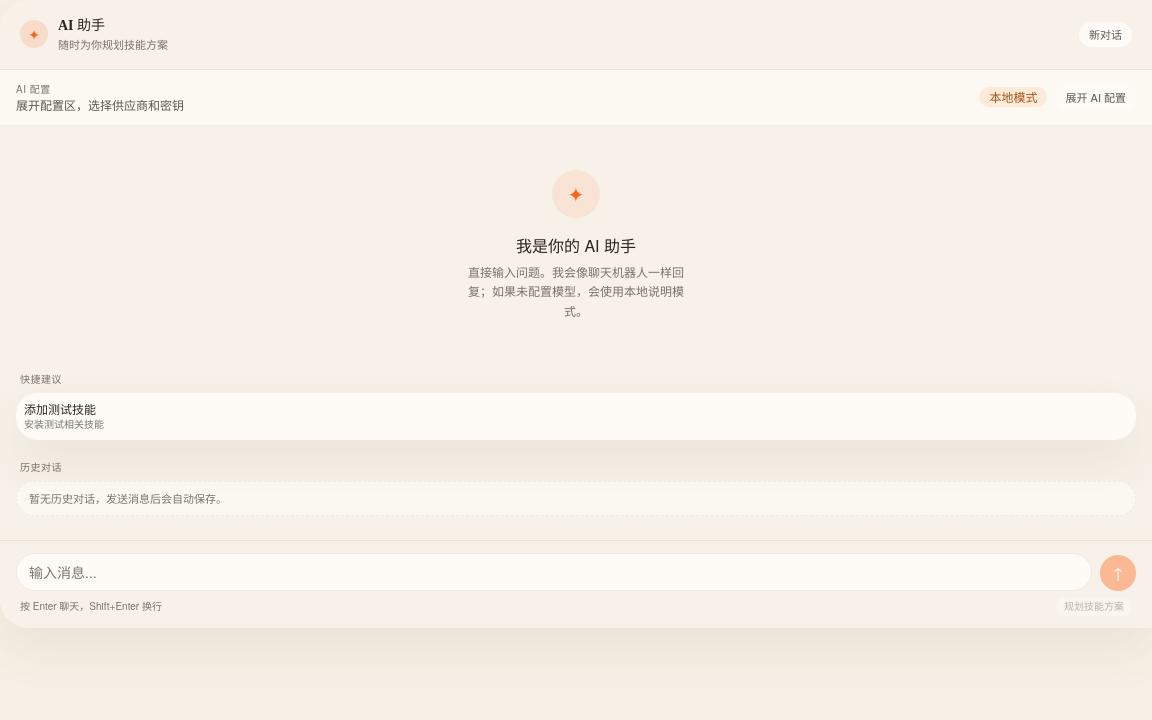
it: AssistantPanel › starts planning directly from suggestion templates
The image size is (1152, 720).
Click the text "添加测试技能".
click(60, 408)  # box [24,400,96,417]
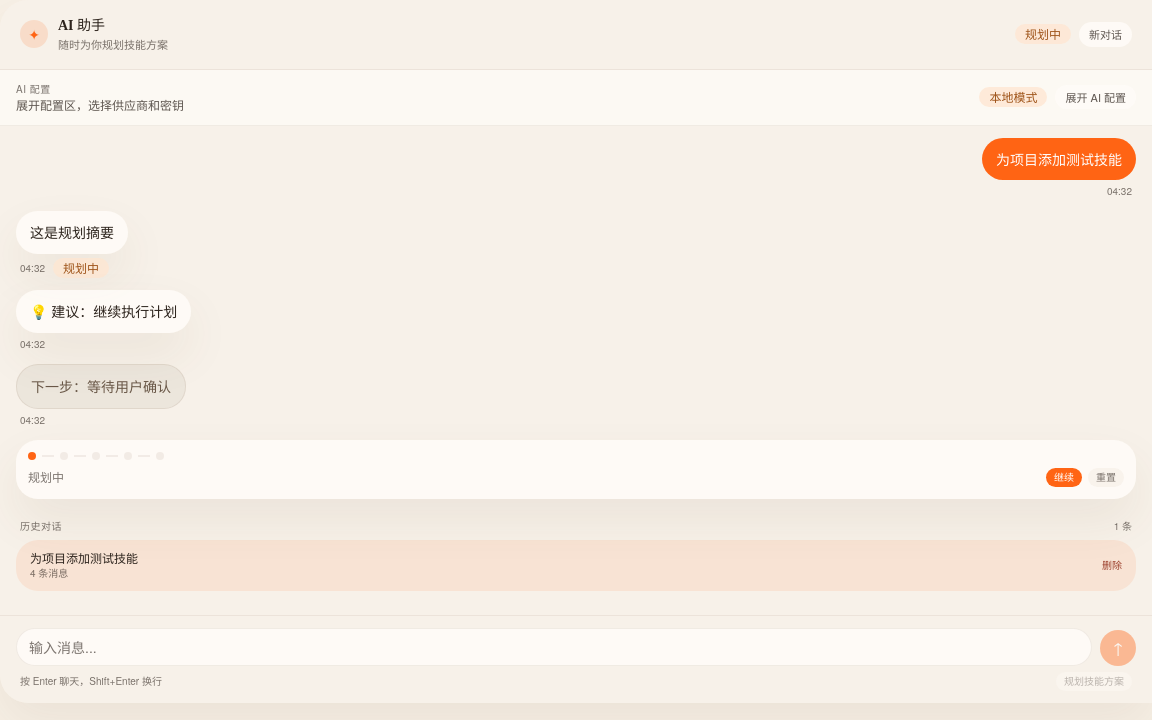
Result: the text "这是规划摘要" is shown at [16,211,128,254]
